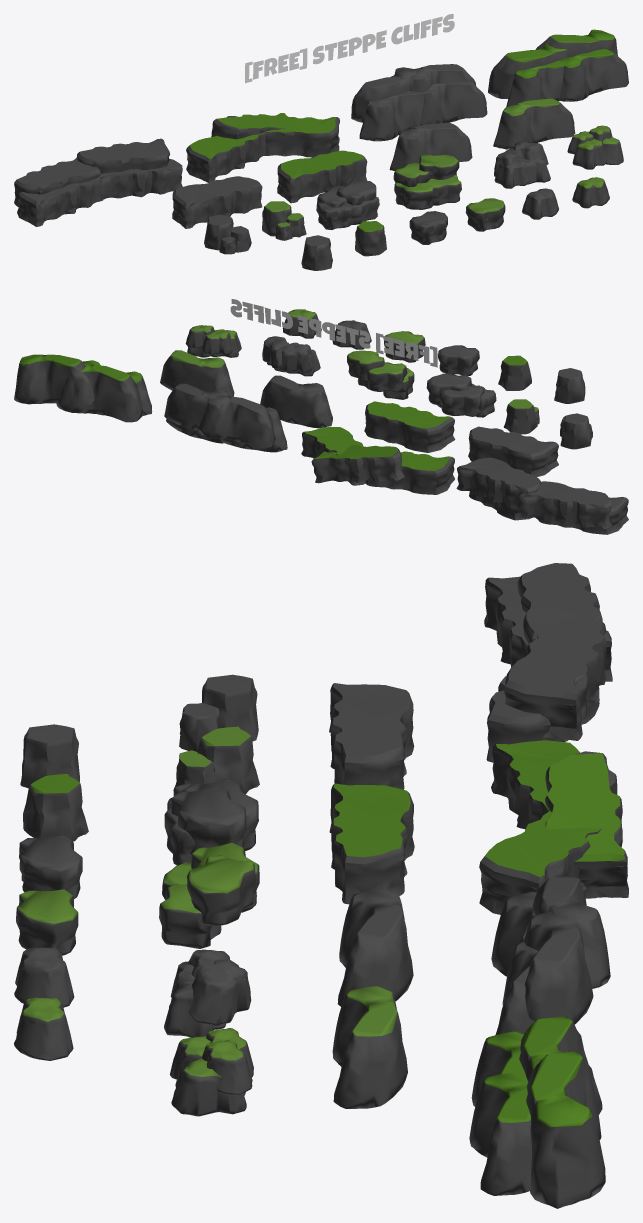
The model's file is lowpoly_cliffs.fbx.
3 views of the same model, one above another, from view 1: azimuth 30°, elevation 25°; view 2: azimuth 150°, elevation 25°; view 3: azimuth 270°, elevation 25° (orthographic). The views are drawn at different scales.
Parts seen in each view (by area): view 1: Example.018_Plane.074, Example.016_Plane.070, Example.017_Plane.071, Example.019_Plane.075, Cliff_rock_04.001_Plane.072, Cliff_rock_04_Grass.001_Plane.073, Example.012_Plane.066, Cliff_rock_05_Grass.001_Plane.061, Text.001_Text, Cliff_rock_05.002_Plane.060, Example.013_Plane.067, Example.014_Plane.068 (+9 smaller); view 2: Example.018_Plane.074, Example.016_Plane.070, Example.019_Plane.075, Example.017_Plane.071, Cliff_rock_04_Grass.001_Plane.073, Cliff_rock_04.001_Plane.072, Text.001_Text, Cliff_rock_05.002_Plane.060, Example.013_Plane.067, Cliff_rock_05_Grass.001_Plane.061, Example.012_Plane.066, Example.014_Plane.068 (+9 smaller); view 3: Example.016_Plane.070, Example.019_Plane.075, Example.018_Plane.074, Example.017_Plane.071, Cliff_rock_04_Grass.001_Plane.073, Cliff_rock_04.001_Plane.072, Example.012_Plane.066, Cliff_rock_05_Grass.001_Plane.061, Cliff_rock_05.002_Plane.060, Example.015_Plane.069, Example.013_Plane.067, Example.014_Plane.068 (+8 smaller).
Boxes of the visible parts, box(x1,y1,x2,y2) form: Example.018_Plane.074: box(14, 138, 182, 226); Example.016_Plane.070: box(488, 29, 628, 107); Example.017_Plane.071: box(351, 64, 487, 141); Example.019_Plane.075: box(186, 113, 339, 182); Cliff_rock_04.001_Plane.072: box(172, 176, 262, 228); Cliff_rock_04_Grass.001_Plane.073: box(277, 150, 367, 203); Example.012_Plane.066: box(393, 154, 461, 209); Cliff_rock_05_Grass.001_Plane.061: box(493, 98, 575, 149); Text.001_Text: box(245, 14, 454, 83); Cliff_rock_05.002_Plane.060: box(389, 122, 472, 171); Example.013_Plane.067: box(316, 179, 379, 229); Example.014_Plane.068: box(494, 142, 550, 188); Example.018_Plane.074: box(456, 457, 628, 534); Example.016_Plane.070: box(14, 354, 152, 422); Example.019_Plane.075: box(301, 427, 454, 494); Example.017_Plane.071: box(164, 383, 287, 452); Cliff_rock_04_Grass.001_Plane.073: box(364, 401, 455, 452); Cliff_rock_04.001_Plane.072: box(468, 426, 558, 476); Text.001_Text: box(230, 299, 437, 367); Cliff_rock_05.002_Plane.060: box(260, 375, 332, 428); Example.013_Plane.067: box(426, 373, 496, 417); Cliff_rock_05_Grass.001_Plane.061: box(160, 350, 234, 396); Example.012_Plane.066: box(347, 350, 414, 399); Example.014_Plane.068: box(262, 336, 320, 376); Example.016_Plane.070: box(469, 1016, 605, 1208); Example.019_Plane.075: box(479, 740, 628, 914); Example.018_Plane.074: box(484, 563, 612, 762); Example.017_Plane.071: box(491, 876, 610, 1035); Cliff_rock_04_Grass.001_Plane.073: box(329, 783, 414, 904); Cliff_rock_04.001_Plane.072: box(329, 683, 414, 789); Example.012_Plane.066: box(159, 842, 259, 948); Cliff_rock_05_Grass.001_Plane.061: box(332, 986, 407, 1108); Cliff_rock_05.002_Plane.060: box(337, 888, 413, 1006); Example.015_Plane.069: box(170, 1028, 253, 1116); Example.013_Plane.067: box(164, 779, 258, 865); Example.014_Plane.068: box(164, 949, 251, 1037).
Bounding box in the file's own units: 7467 × 1482 × 3347.
3 materials, 2 textured.
